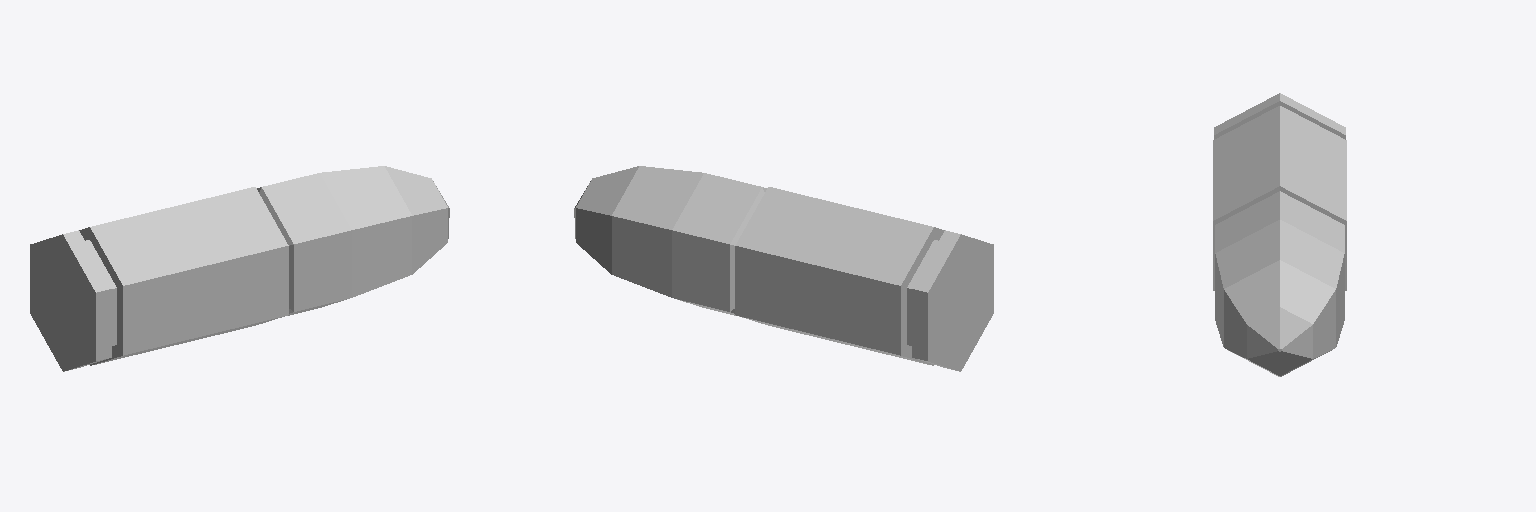
Rendered from Bullet.obj.
3 renders of one model, left to right at view 1: azimuth 30°, elevation 25°; view 2: azimuth 150°, elevation 25°; view 3: azimuth 270°, elevation 25°, orthographic.
Visible parts, largest first — view 1: Zylinder; view 2: Zylinder; view 3: Zylinder.
Part boxes in pixels (x1,y1,x2,y2): Zylinder: (30, 166, 449, 371); Zylinder: (574, 166, 993, 371); Zylinder: (1213, 93, 1346, 376).
Size of the model in its own units: 0.7222 by 0.2488 by 0.2155.